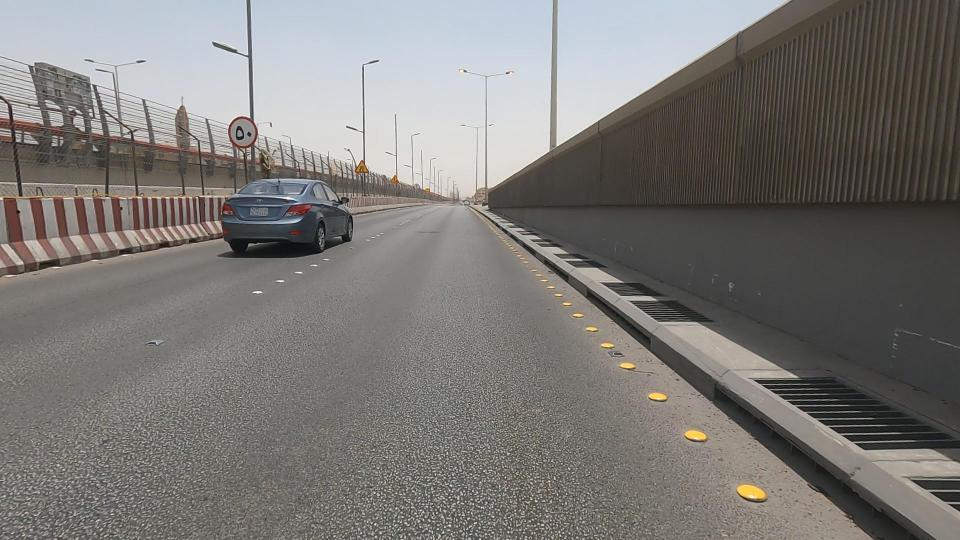CONSTRUCTION_ROAD: (0, 54, 274, 285), (245, 112, 377, 222), (324, 150, 454, 224)
